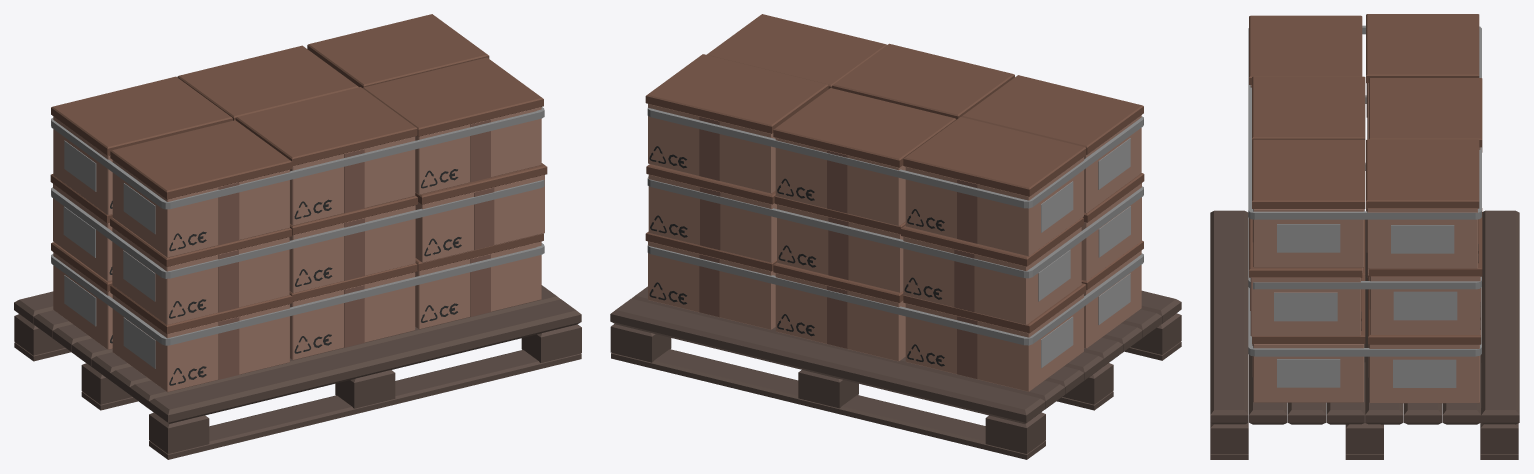
File: props_19.glb
3 renders of one model, left to right at view 1: azimuth 30°, elevation 25°; view 2: azimuth 150°, elevation 25°; view 3: azimuth 270°, elevation 25°, orthographic.
Parts seen in each view (by area): view 1: props_19; view 2: props_19; view 3: props_19.
Part boxes in pixels (box(x1,y1,x2,y2)): props_19: box(14, 14, 581, 459); props_19: box(610, 14, 1181, 459); props_19: box(1210, 14, 1519, 459).
Bounding box in the file's own units: 3.08 × 1.8 × 1.99.
1 material, 1 textured.
